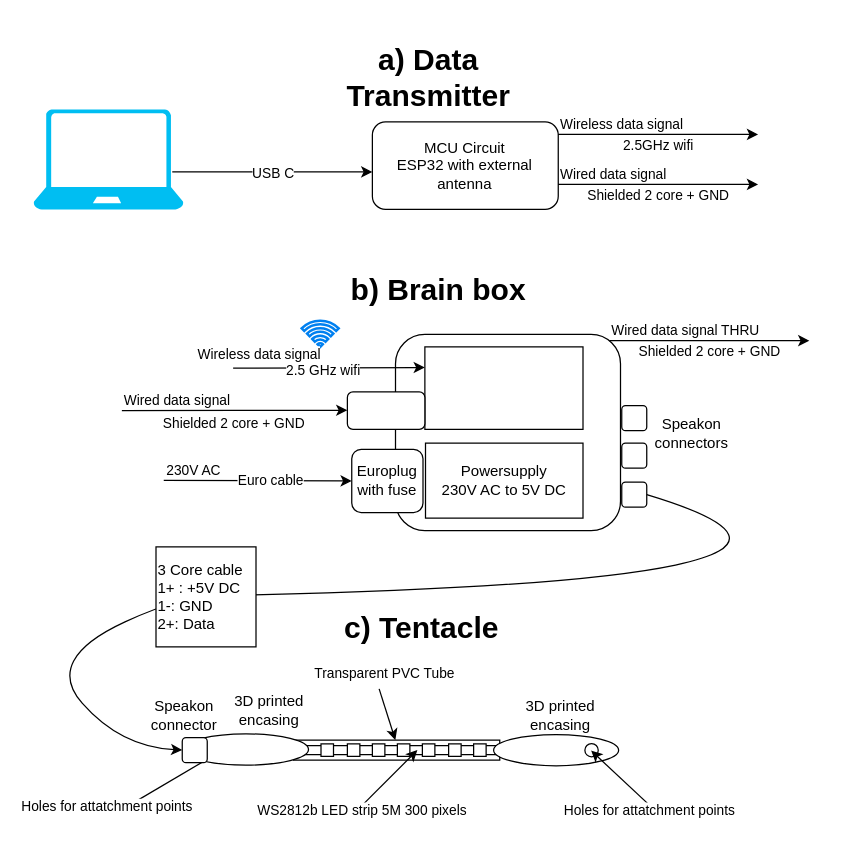
This 841x845 diagram has some shape labels left out. Here are the shapes that lost their labels. From the top down, the centre of each, then its label:
At (503,387): "MCU circuit 1 ESP32 per led strip".
At (385,410): "XLR plug".
